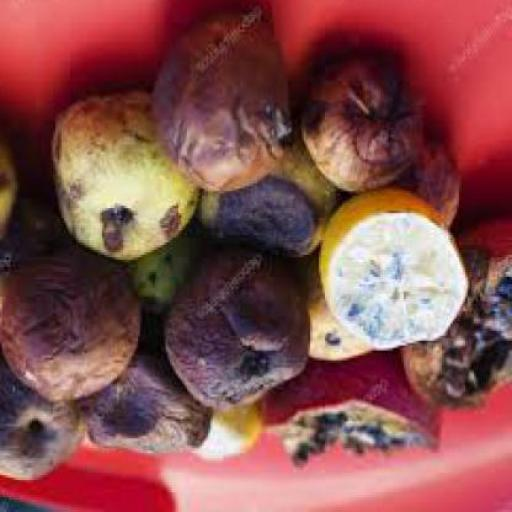biodegradable: (150, 14, 296, 196), (54, 93, 204, 265), (164, 247, 312, 414), (2, 239, 147, 407), (323, 191, 470, 353), (266, 348, 445, 473), (405, 220, 511, 416), (307, 51, 427, 199), (198, 149, 336, 262), (85, 350, 213, 459), (2, 370, 85, 485), (310, 250, 374, 365), (128, 242, 206, 314), (404, 137, 462, 231), (196, 404, 266, 468), (2, 134, 25, 262)
